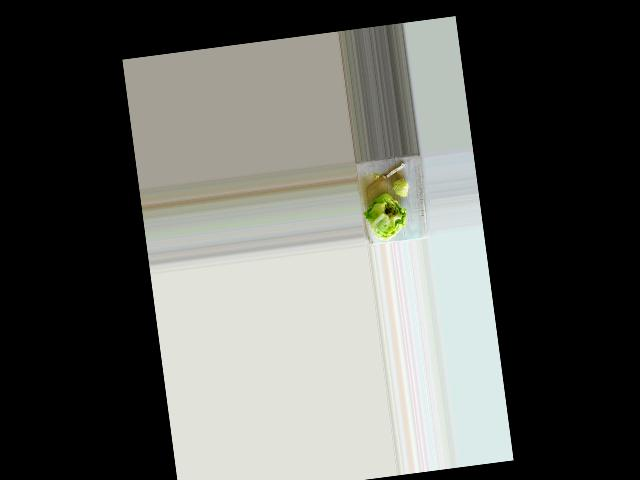lettuce: (364, 195, 409, 244)
